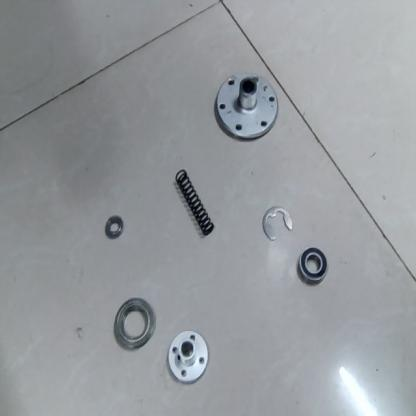FOD: (211, 70, 280, 142), (176, 167, 215, 240), (164, 327, 211, 387), (111, 296, 158, 351), (258, 204, 292, 244), (297, 246, 328, 286), (100, 215, 125, 242)
